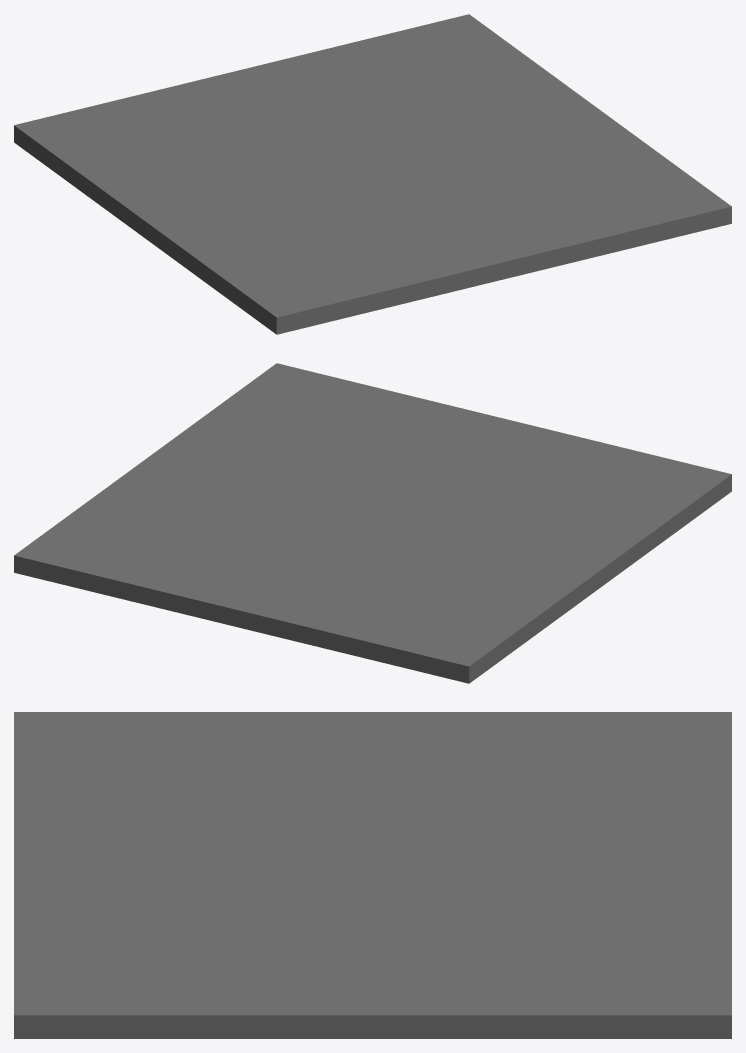
The model's file is CeilingBroken4.fbx.
The picture shows the model from 3 angles, top to bottom: view 1: azimuth 30°, elevation 25°; view 2: azimuth 150°, elevation 25°; view 3: azimuth 270°, elevation 25°; orthographic projection. The views are drawn at different scales.
Visible parts, largest first — view 1: CeilingBroken.023, CeilingBroken.024, CeilingBroken.022; view 2: CeilingBroken.023, CeilingBroken.022, CeilingBroken.024; view 3: CeilingBroken.023, CeilingBroken.024, CeilingBroken.022.
Part boxes in pixels (x1=…): CeilingBroken.023: x1=62, y1=79, x2=603, y2=305; CeilingBroken.024: x1=237, y1=113, x2=731, y2=334; CeilingBroken.022: x1=14, y1=14, x2=557, y2=179; CeilingBroken.023: x1=102, y1=456, x2=693, y2=645; CeilingBroken.022: x1=14, y1=491, x2=520, y2=683; CeilingBroken.024: x1=149, y1=363, x2=731, y2=519; CeilingBroken.023: x1=118, y1=712, x2=599, y2=1038; CeilingBroken.024: x1=14, y1=712, x2=367, y2=1038; CeilingBroken.022: x1=481, y1=712, x2=731, y2=1038.
Bounding box in the file's own units: 415 × 15 × 415.
